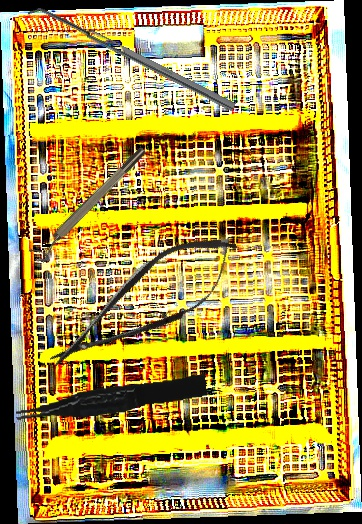Fixation Ring: (27, 144, 154, 267)
Micro Scissor: (34, 216, 254, 391)
Spatula Surgical: (26, 0, 236, 120)
Tissue Forceps: (13, 374, 209, 424)
